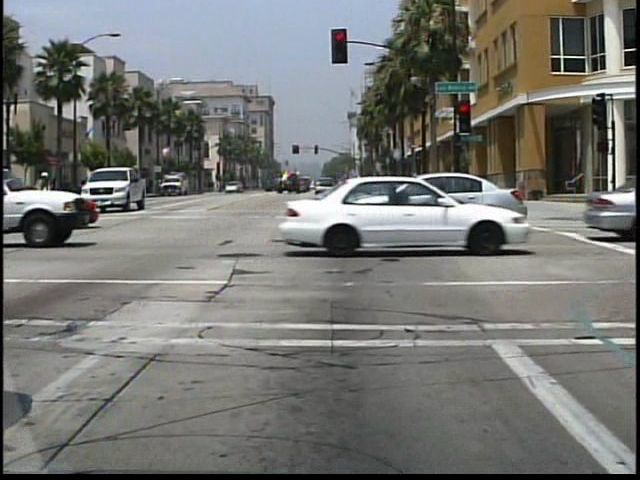person: (35, 168, 60, 215)
